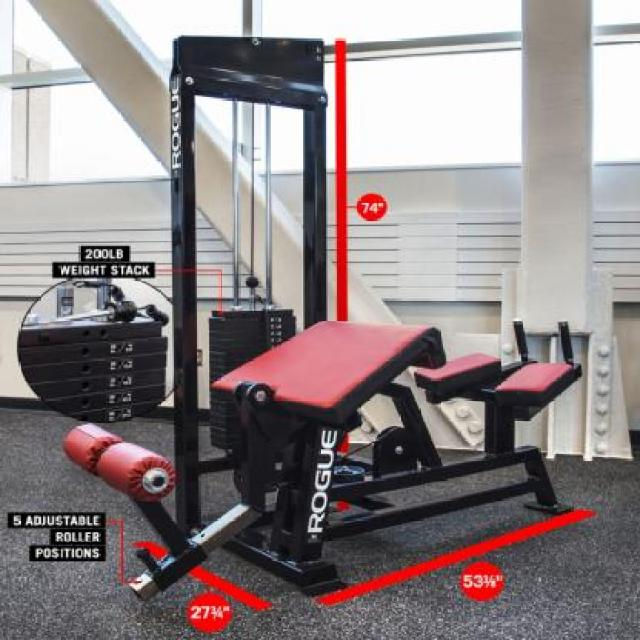reg curl machine: (54, 29, 588, 603)
